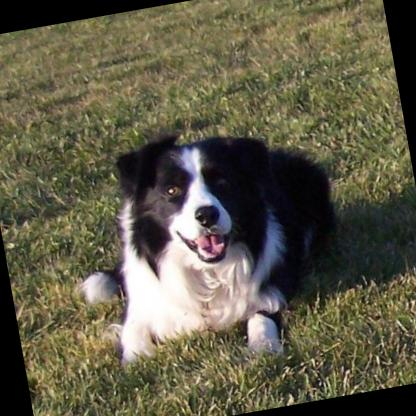collie: (54, 110, 364, 388)
